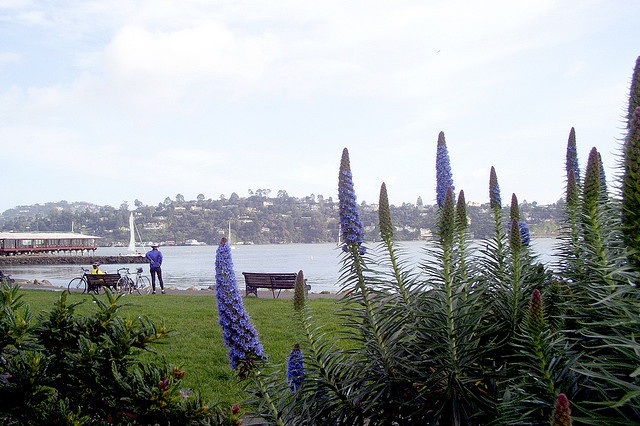non-vehicle: (116, 267, 152, 296), (68, 267, 105, 294)
